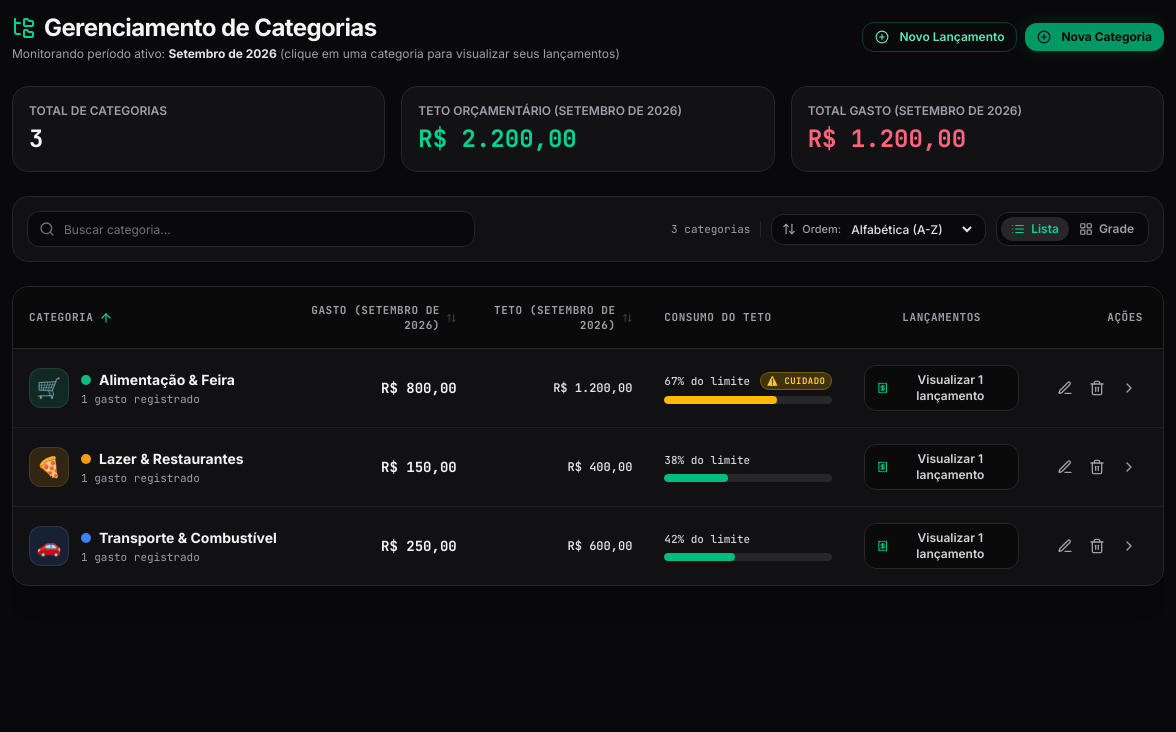
CategoriesPage - Visualização em Lista e Ordenação Alfabética › filtra categorias em tempo real através do campo de busca
The image size is (1176, 732).
Type "lazer" into the field with placeholder "Buscar categoria...".
click(251, 229); type("lazer")  # box [27,211,475,247]
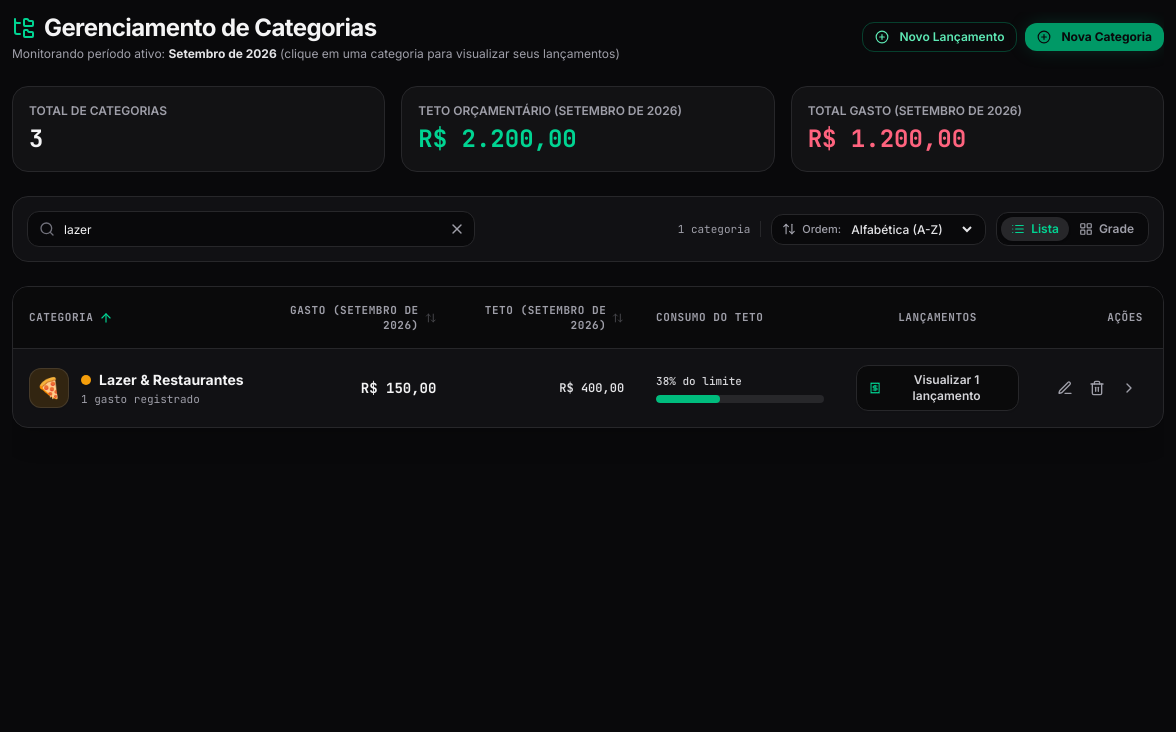
Expected: the text "Lazer & Restaurantes" is shown, [99,370,244,390]
Now the button "Alimentação & Feira" is gone
Now the button "Transporte & Combustível" is gone
# Limpa a busca clicando no botão X
Click the button titled "Limpar busca".
click(457, 229)  # box [449,221,465,237]
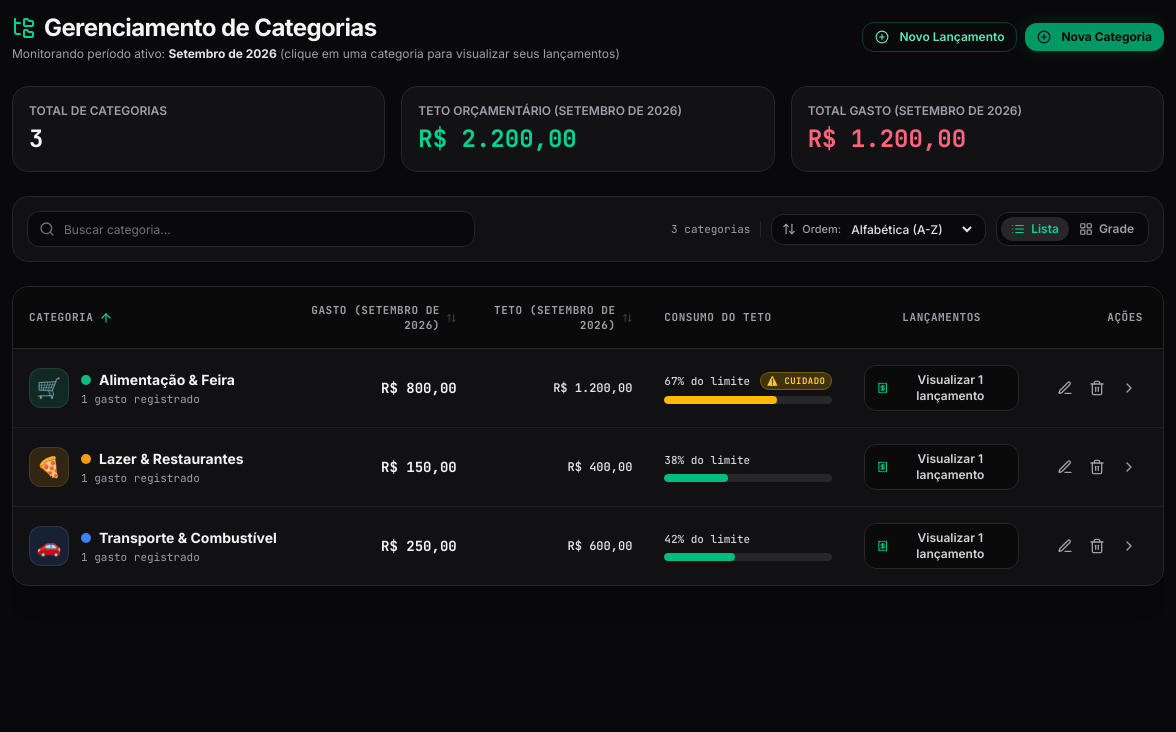
Expected: the text "Lazer & Restaurantes" is shown, [99,449,244,469]
Now the text "Alimentação & Feira" is shown, box [99,370,235,390]
Now the text "Transporte & Combustível" is shown, box [99,528,277,548]
